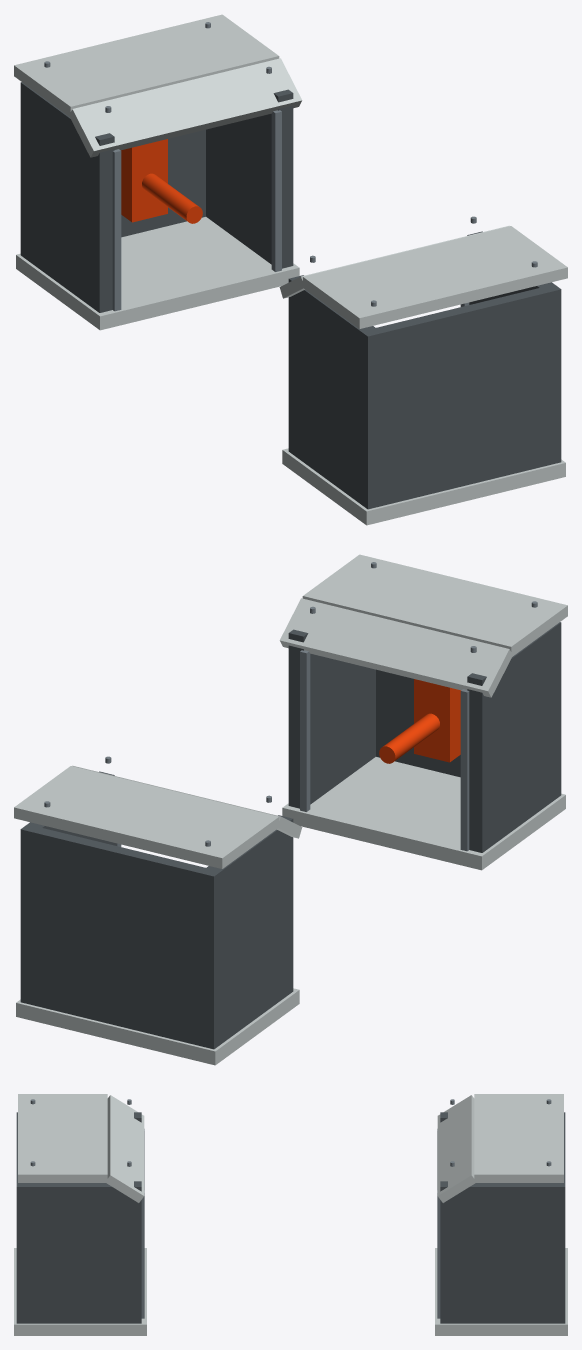
The model's file is identification_hood.dae.
The picture shows the model from 3 angles, top to bottom: view 1: azimuth 30°, elevation 25°; view 2: azimuth 150°, elevation 25°; view 3: azimuth 270°, elevation 25°; orthographic projection. The views are drawn at different scales.
Parts seen in each view (by area): view 1: identification_hood; view 2: identification_hood; view 3: identification_hood.
Boxes of the visible parts, bbox=[...] form: identification_hood: bbox=[14, 14, 567, 525]; identification_hood: bbox=[14, 554, 567, 1065]; identification_hood: bbox=[14, 1094, 567, 1335].
Bounding box in the file's own units: 1.4 × 4.08 × 1.35.
